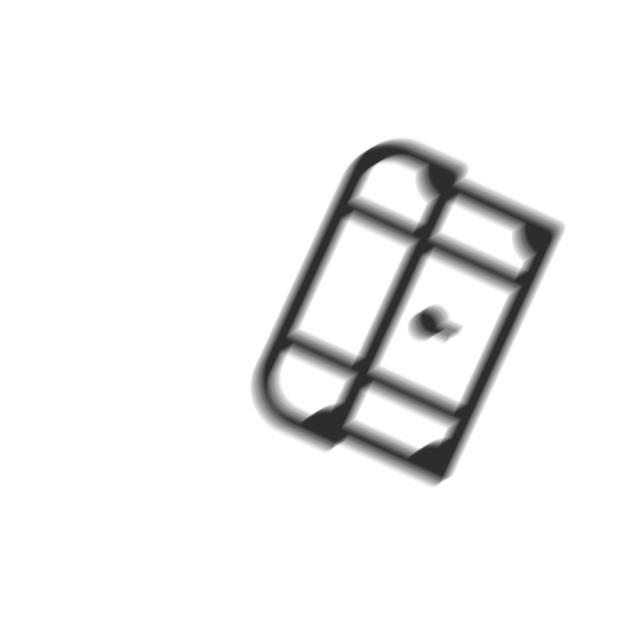treasure_box: (246, 135, 573, 496)
